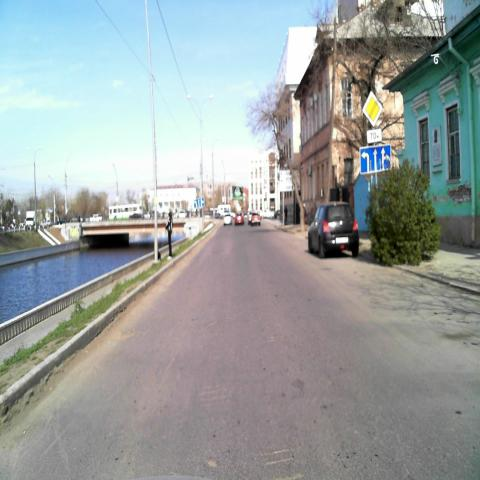8_1_1: (367, 128, 382, 142)
